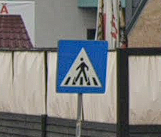trecere_pietoni: (56, 37, 107, 94)
